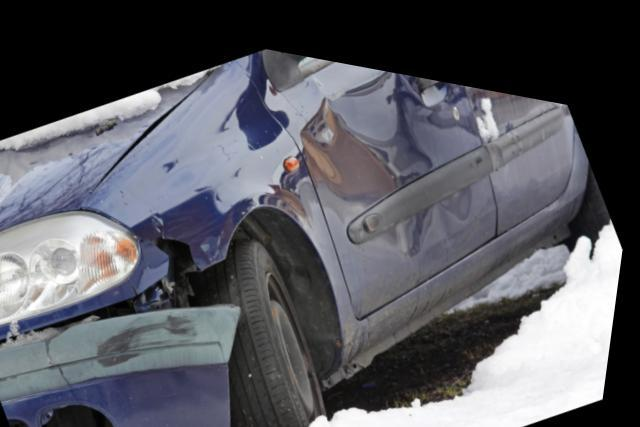crack: (156, 207, 211, 264)
dent: (307, 56, 436, 200), (387, 190, 436, 239), (444, 168, 476, 198)
dislocated part: (0, 261, 248, 427)
scratch: (99, 303, 207, 367)
